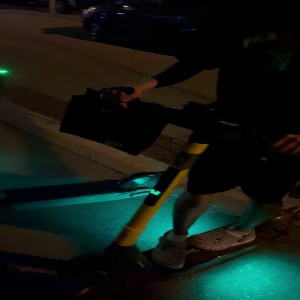human on a scooter: (43, 1, 300, 299)
